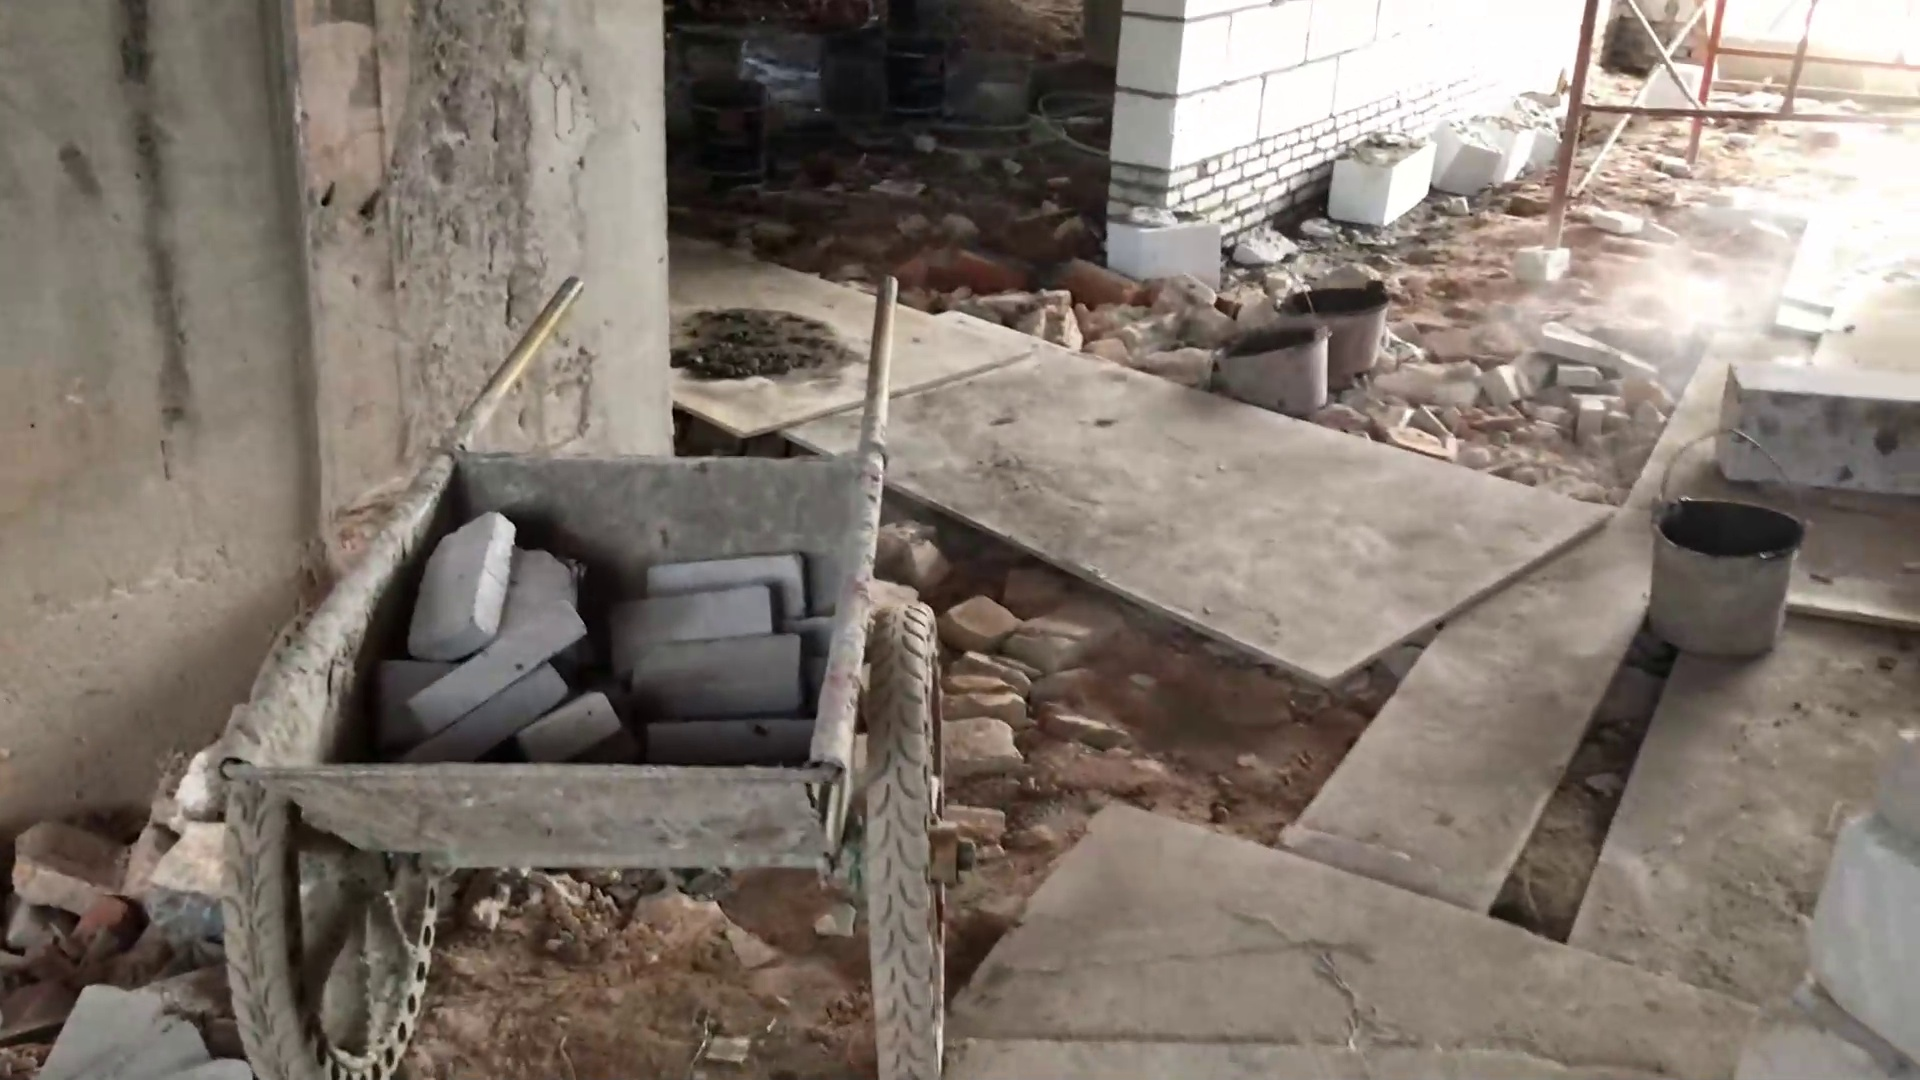handcart: (208, 269, 980, 1080)
